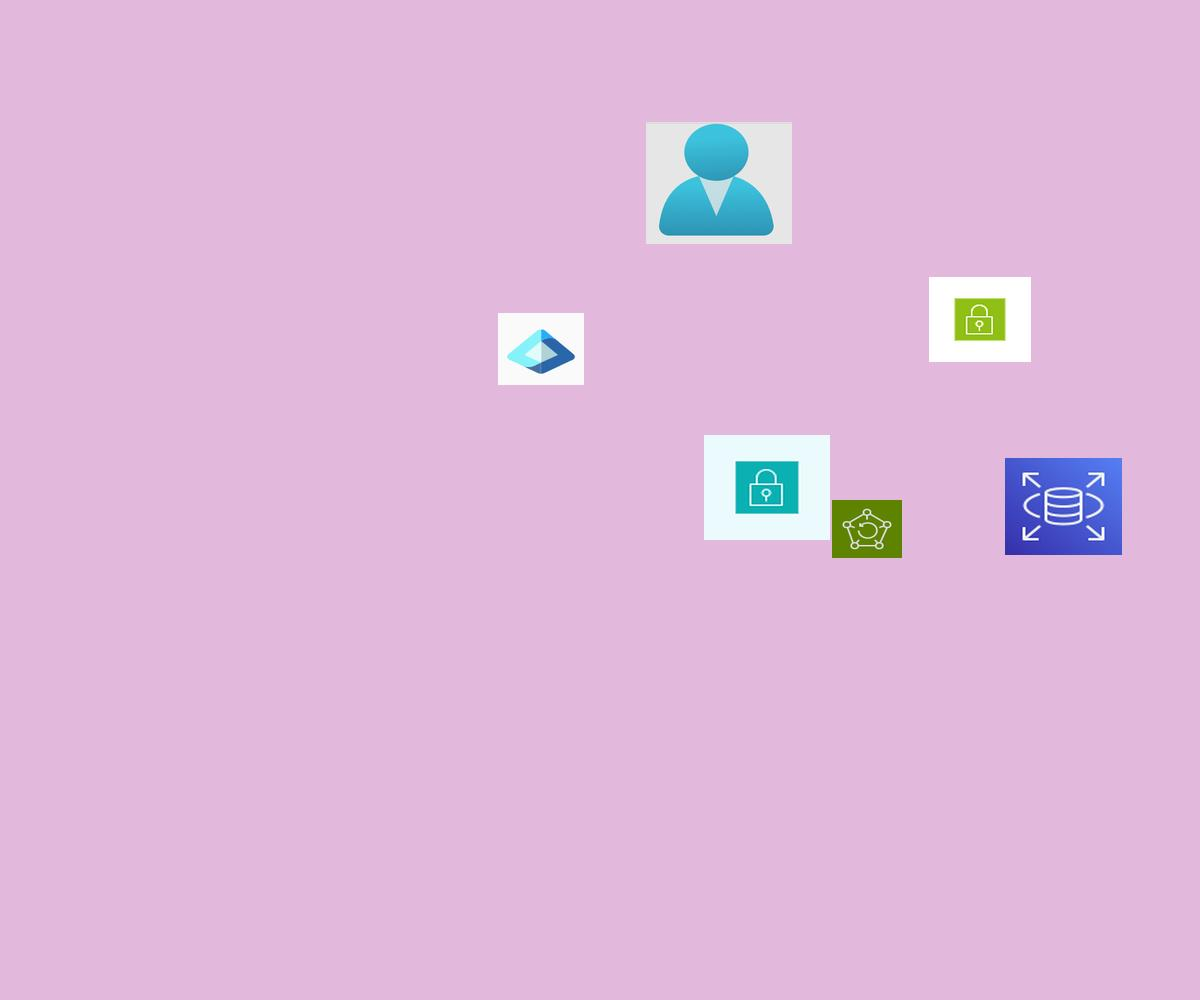AWS-Backup: (832, 500, 902, 558)
AWS-Private-subnet: (704, 435, 830, 540)
AWS-Public-subnet: (929, 277, 1031, 362)
AWS-RDS: (1005, 458, 1122, 555)
Azure_microsoft_entra: (498, 313, 584, 385)
Azure_users: (646, 122, 792, 244)
